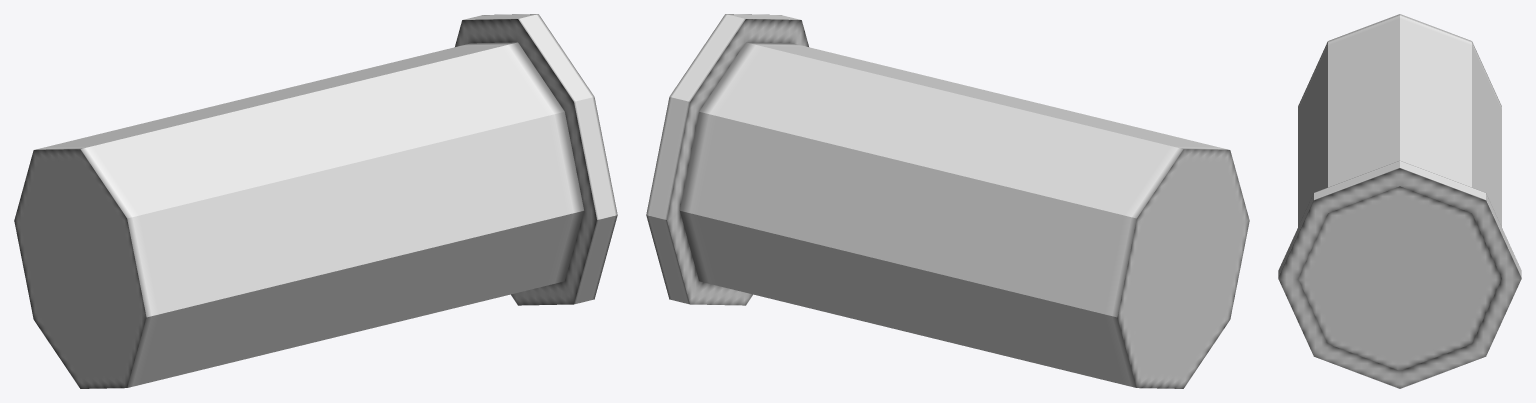
File: Pipe-01.fbx
3 renders of one model, left to right at view 1: azimuth 30°, elevation 25°; view 2: azimuth 150°, elevation 25°; view 3: azimuth 270°, elevation 25°, orthographic. The views are drawn at different scales.
Parts seen in each view (by area): view 1: Pipe_01; view 2: Pipe_01; view 3: Pipe_01.
Part boxes in pixels (x1,y1,x2,y2): Pipe_01: (14, 14, 617, 388); Pipe_01: (646, 14, 1249, 388); Pipe_01: (1278, 14, 1521, 388).
Bounding box in the file's own units: 1 × 0.5974 × 0.5974.
